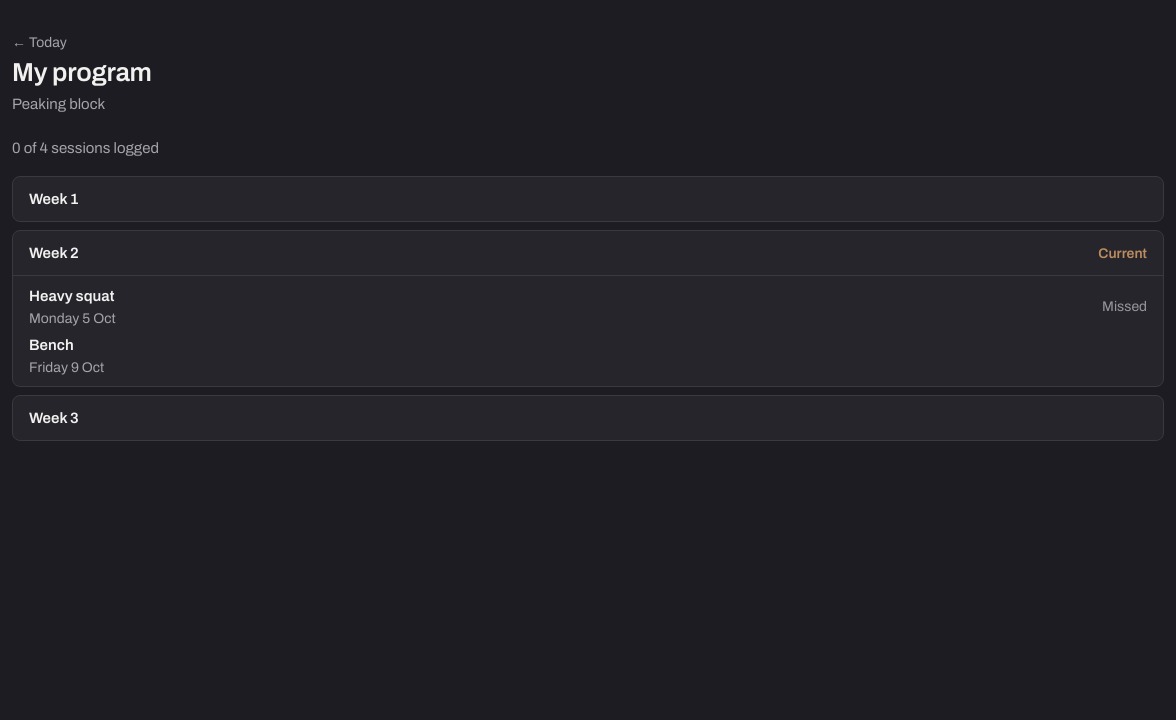
Test: My Program, with a block › opens a day to its lines with percentages already in kilos, and the coach's note
Click the button "Heavy squat Monday 5 Oct Missed" at (72,296), box [21, 284, 1155, 329]
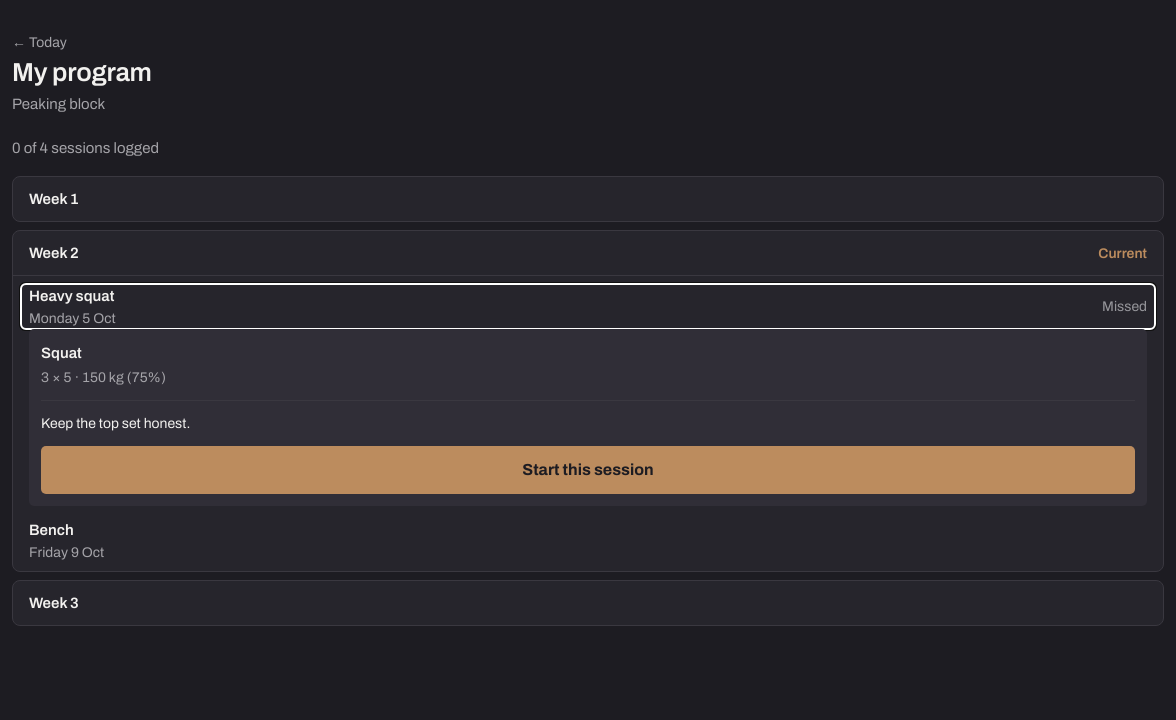
Now the text "Squat" is shown, box [41, 345, 82, 361]
Now the text "3 × 5 · 150 kg (75%)" is shown, box [41, 370, 166, 385]
Now the text named "Coach's note" reads "Keep the top set honest.", box [41, 416, 190, 431]
